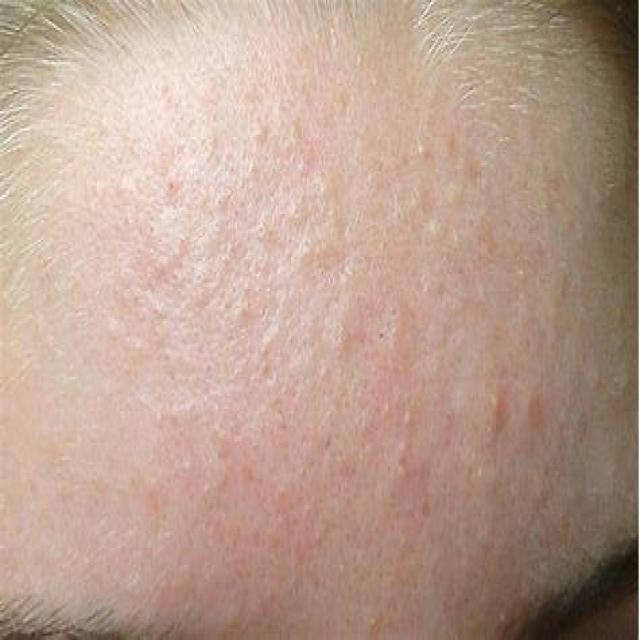fungal: (75, 77, 559, 611)
